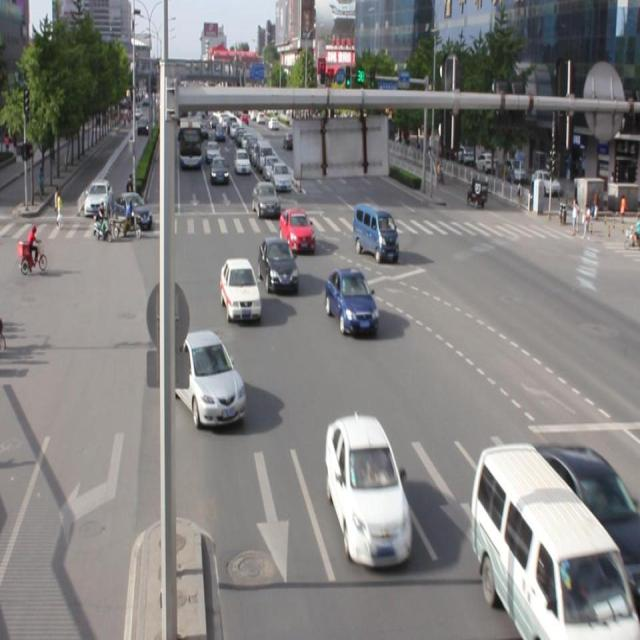car: (532, 440, 640, 576), (325, 414, 411, 566), (170, 330, 245, 426), (325, 267, 378, 334), (220, 257, 261, 323), (257, 237, 299, 294), (279, 207, 314, 254)
truck: (470, 444, 632, 640), (352, 202, 398, 260)
